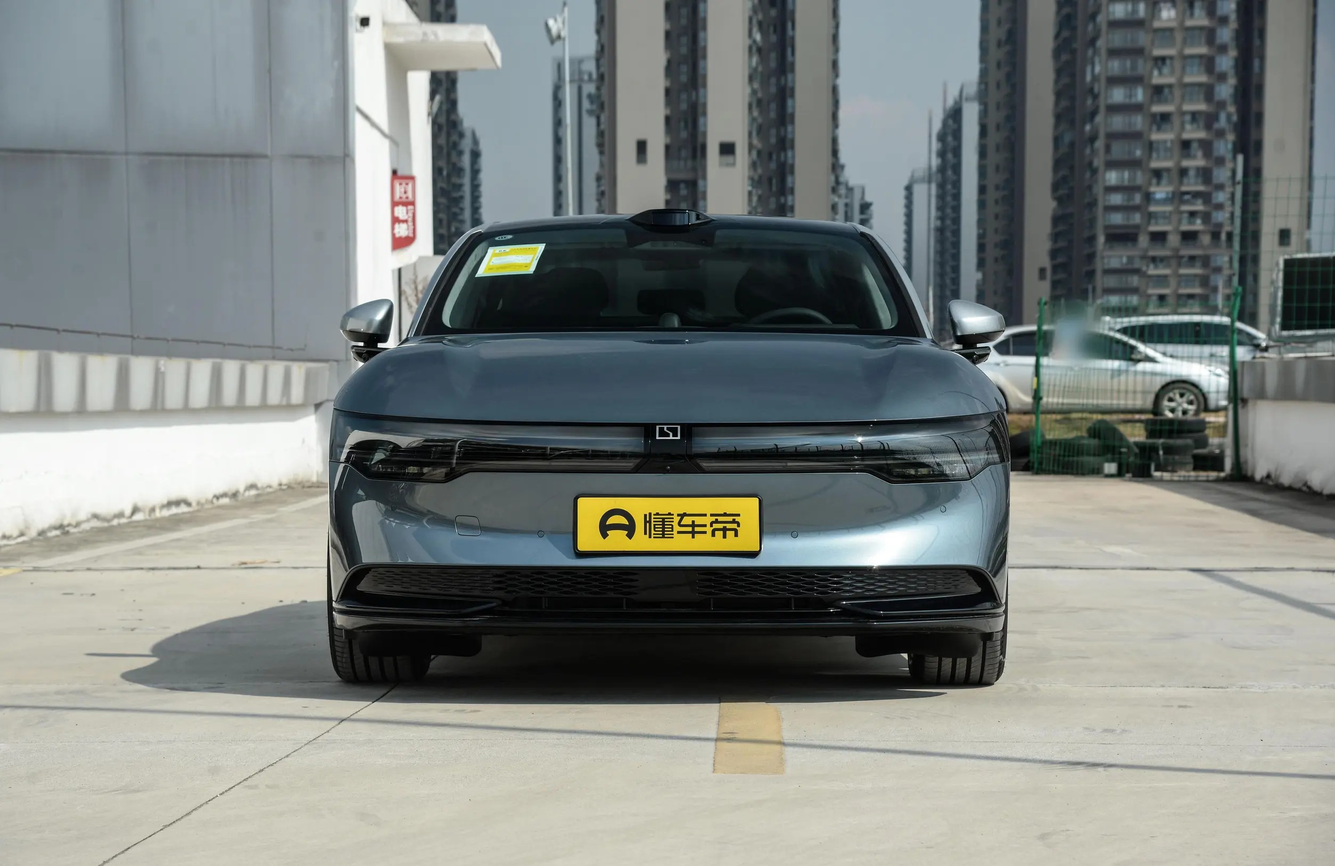ZEEKR: (657, 426, 680, 439)
